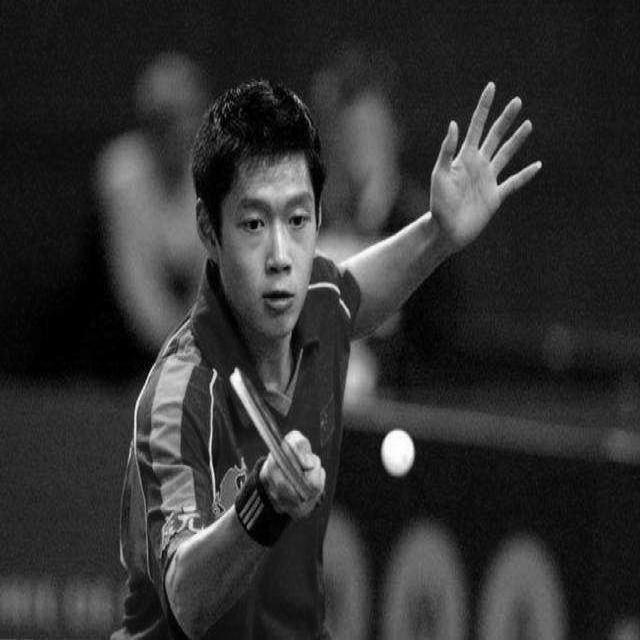ping-pong-ball: (377, 424, 415, 481)
